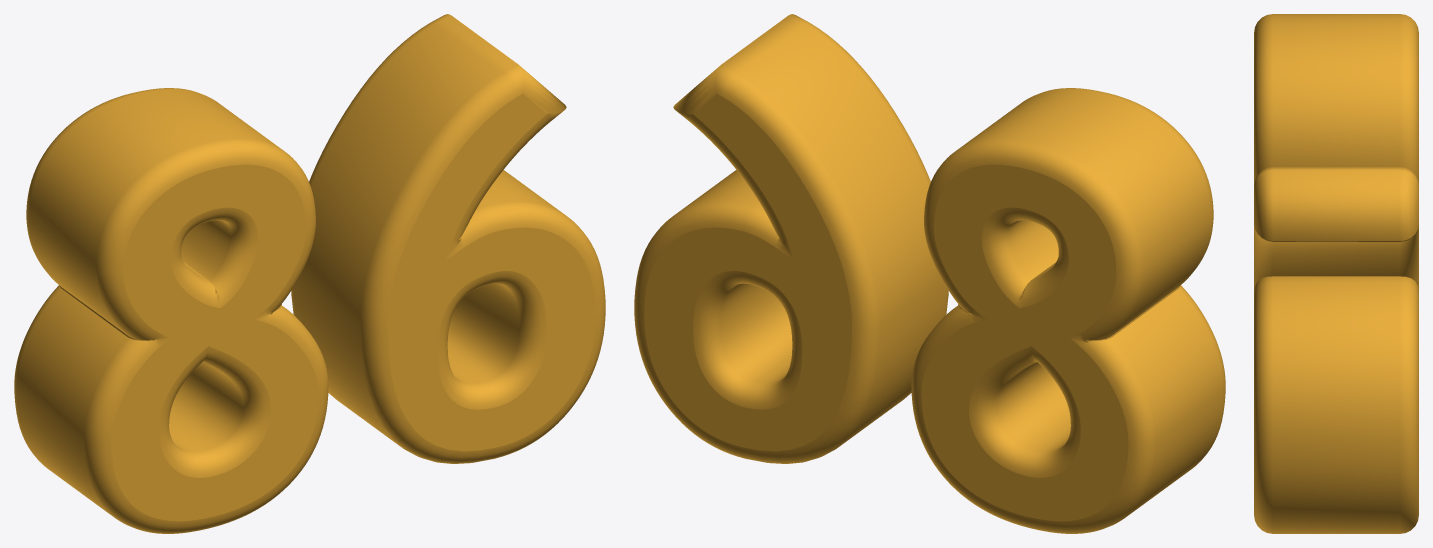
3 renders of one model, left to right at view 1: azimuth 30°, elevation 25°; view 2: azimuth 150°, elevation 25°; view 3: azimuth 270°, elevation 25°, orthographic. The views are drawn at different scales.
Visible parts, largest first — view 1: Text; view 2: Text; view 3: Text.
Boxes of the visible parts, x1=… form: Text: x1=14, y1=14, x2=605, y2=533; Text: x1=634, y1=14, x2=1225, y2=533; Text: x1=1254, y1=14, x2=1418, y2=533.
Size of the model in its own units: 89.16 by 63.4 by 26.
